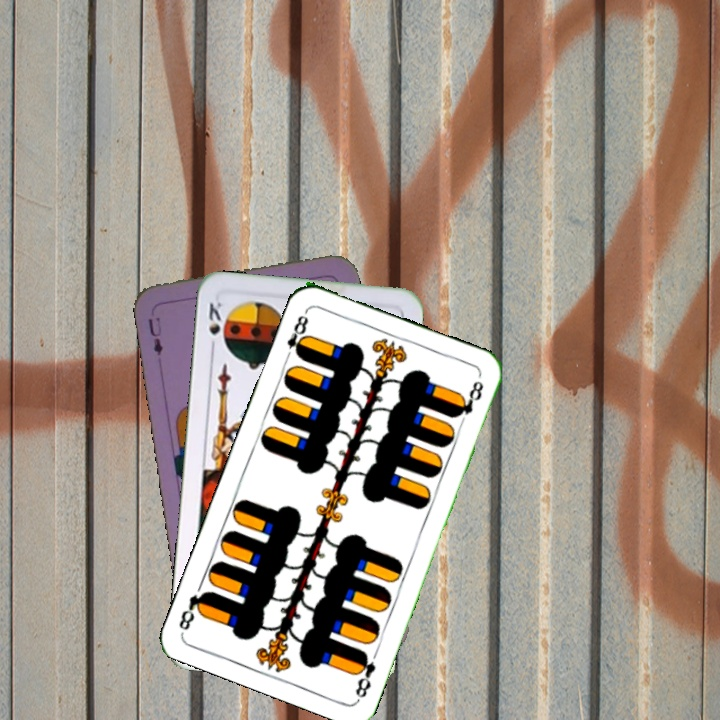E8: (281, 307, 311, 364), (351, 647, 379, 702)
EU: (144, 313, 165, 358)
SK: (204, 298, 226, 355)
